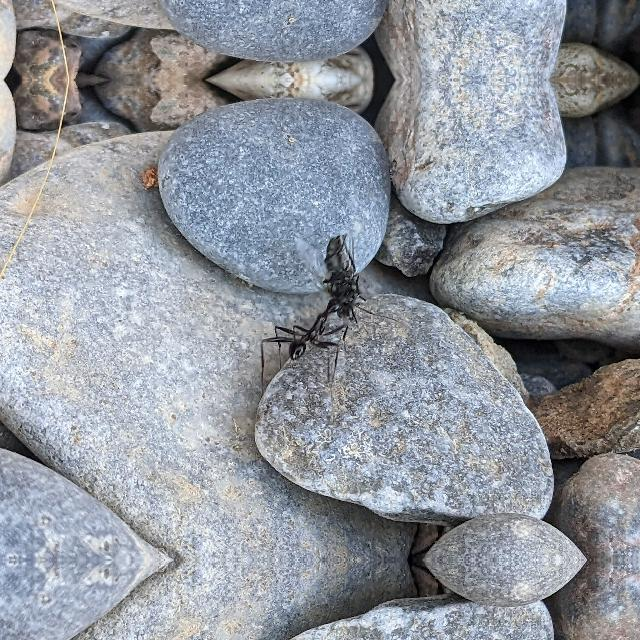Apheanogaster: (262, 222, 392, 376)
